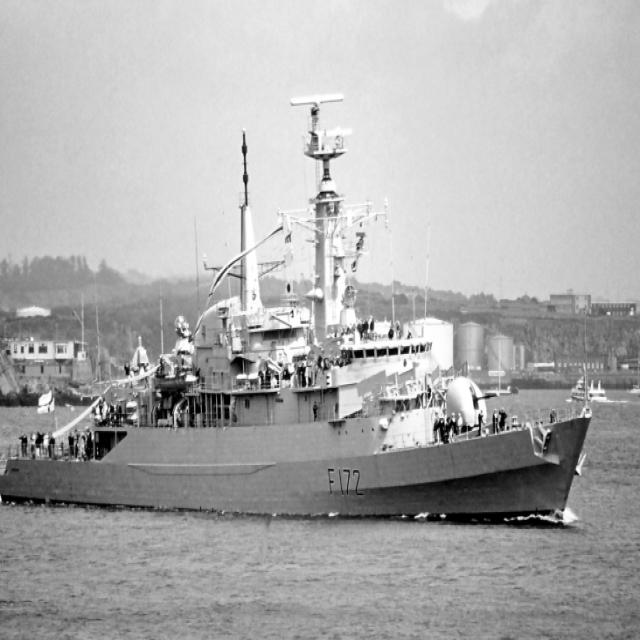Fragata: (1, 82, 596, 529)
